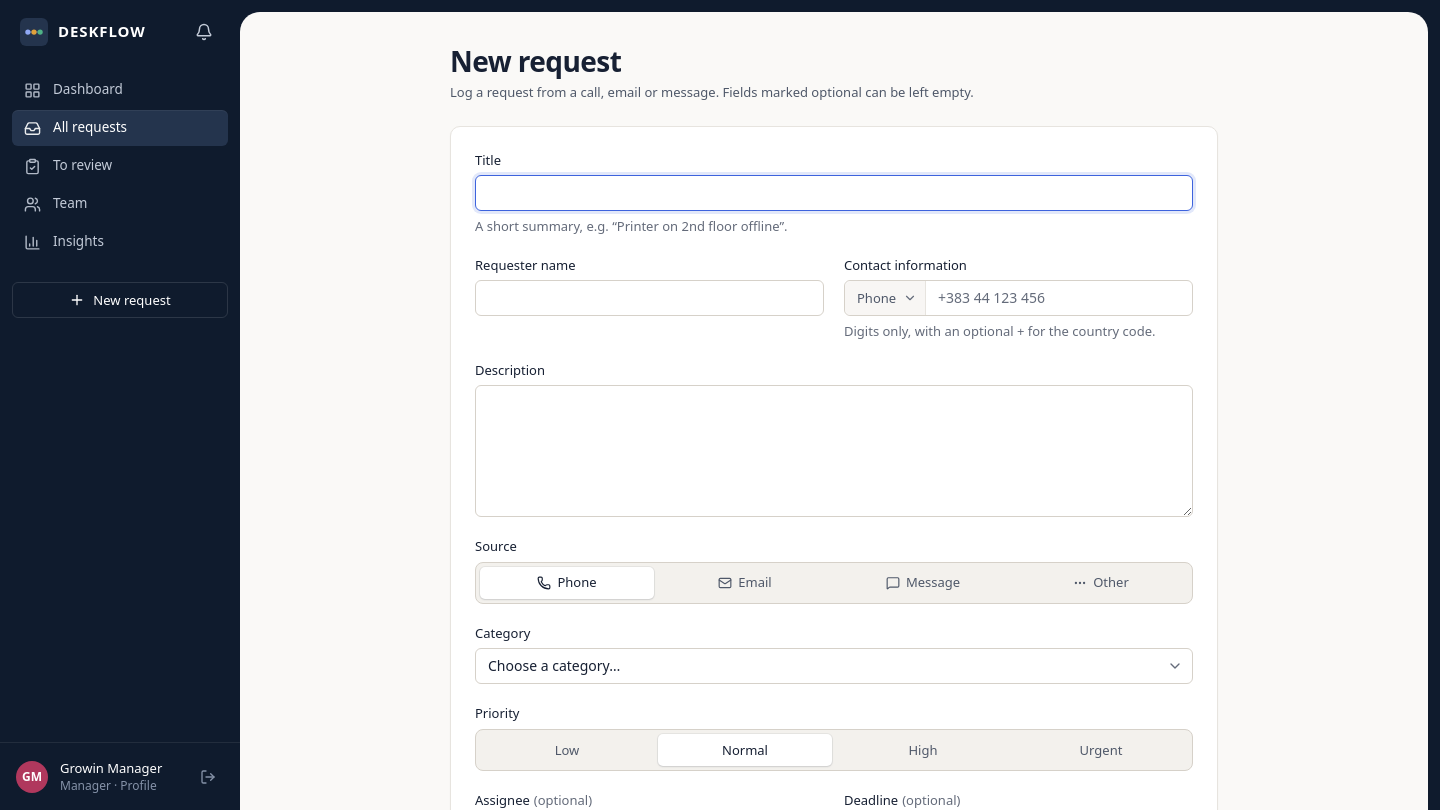
Test: contact field › stores an extension with its prefix and accepts digits only
Select "Ext." in the dropdown named "Contact type" at [885, 298], box 845,281 -> 925,315
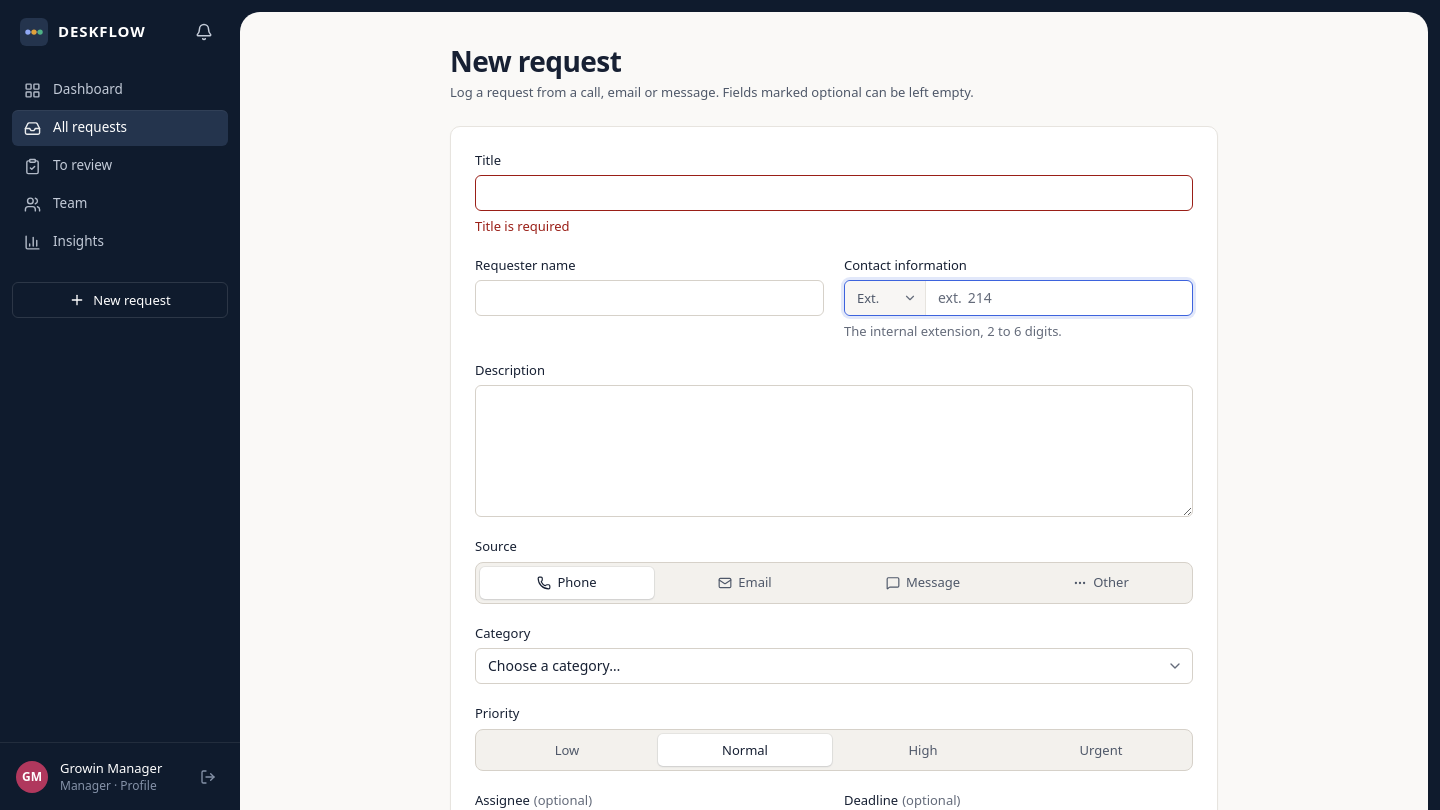
expect the field labelled "Contact information" has attribute inputmode="numeric": met
Type "2x14" into the field labelled "Contact information".
click(1077, 298); type("2x14")  # box 962,281 -> 1192,315
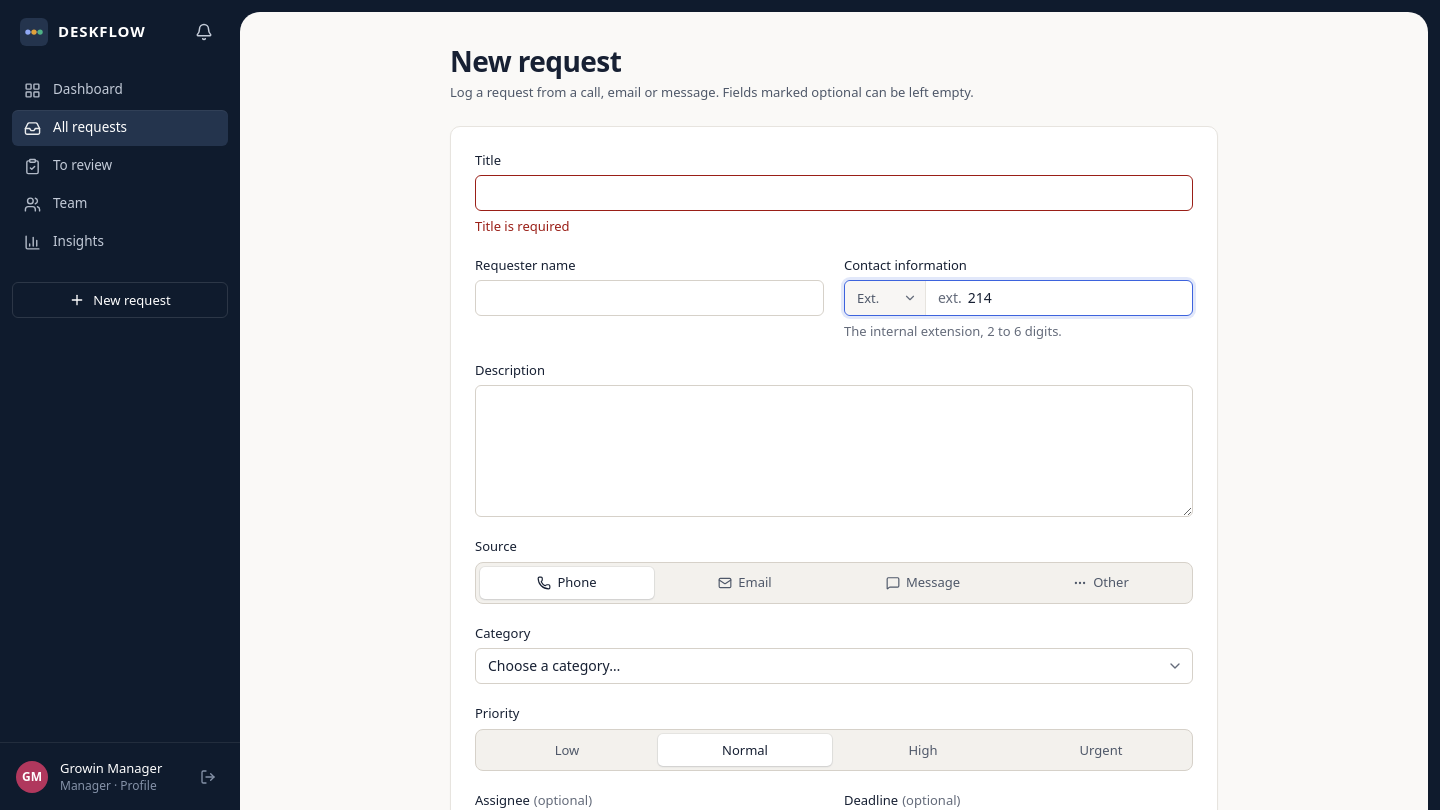
expect the field labelled "Contact information" holds "214": met, box 962,281 -> 1192,315
